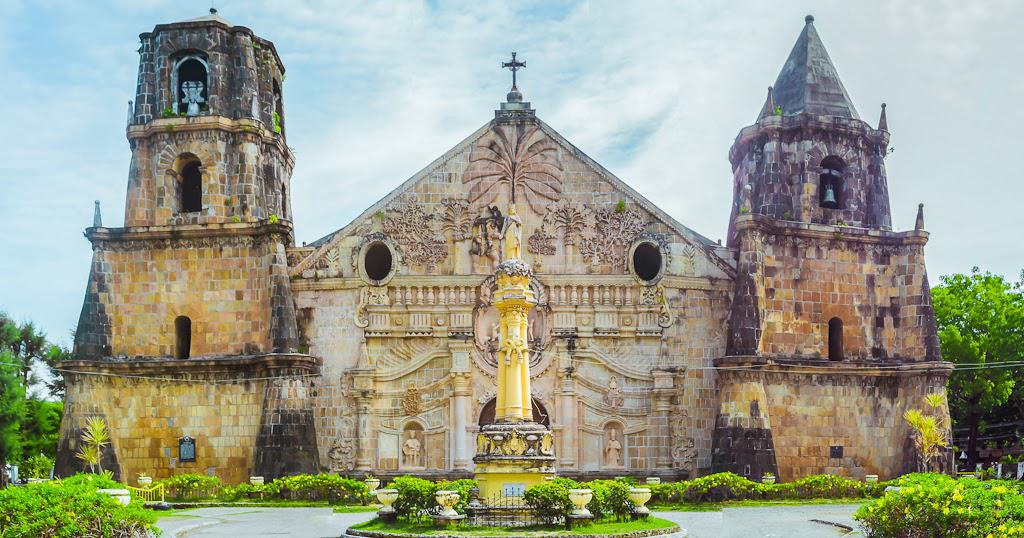miagao_church_miagao_iloilo: (54, 2, 966, 497)
